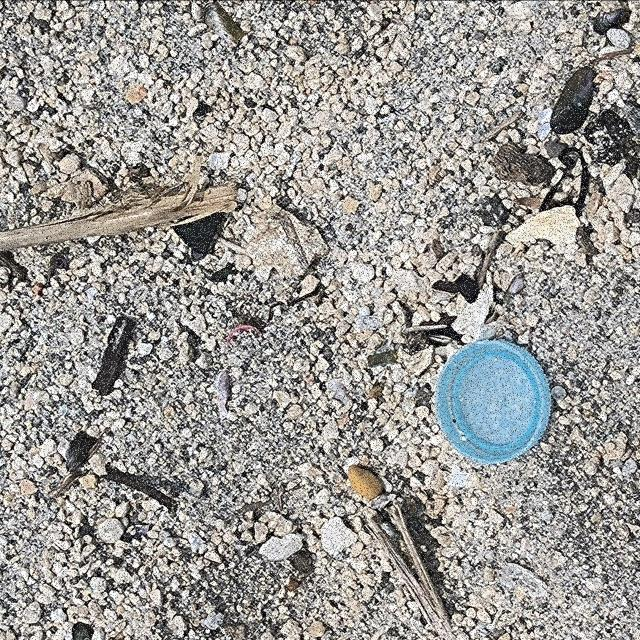plastic_waste: (435, 339, 553, 467)
